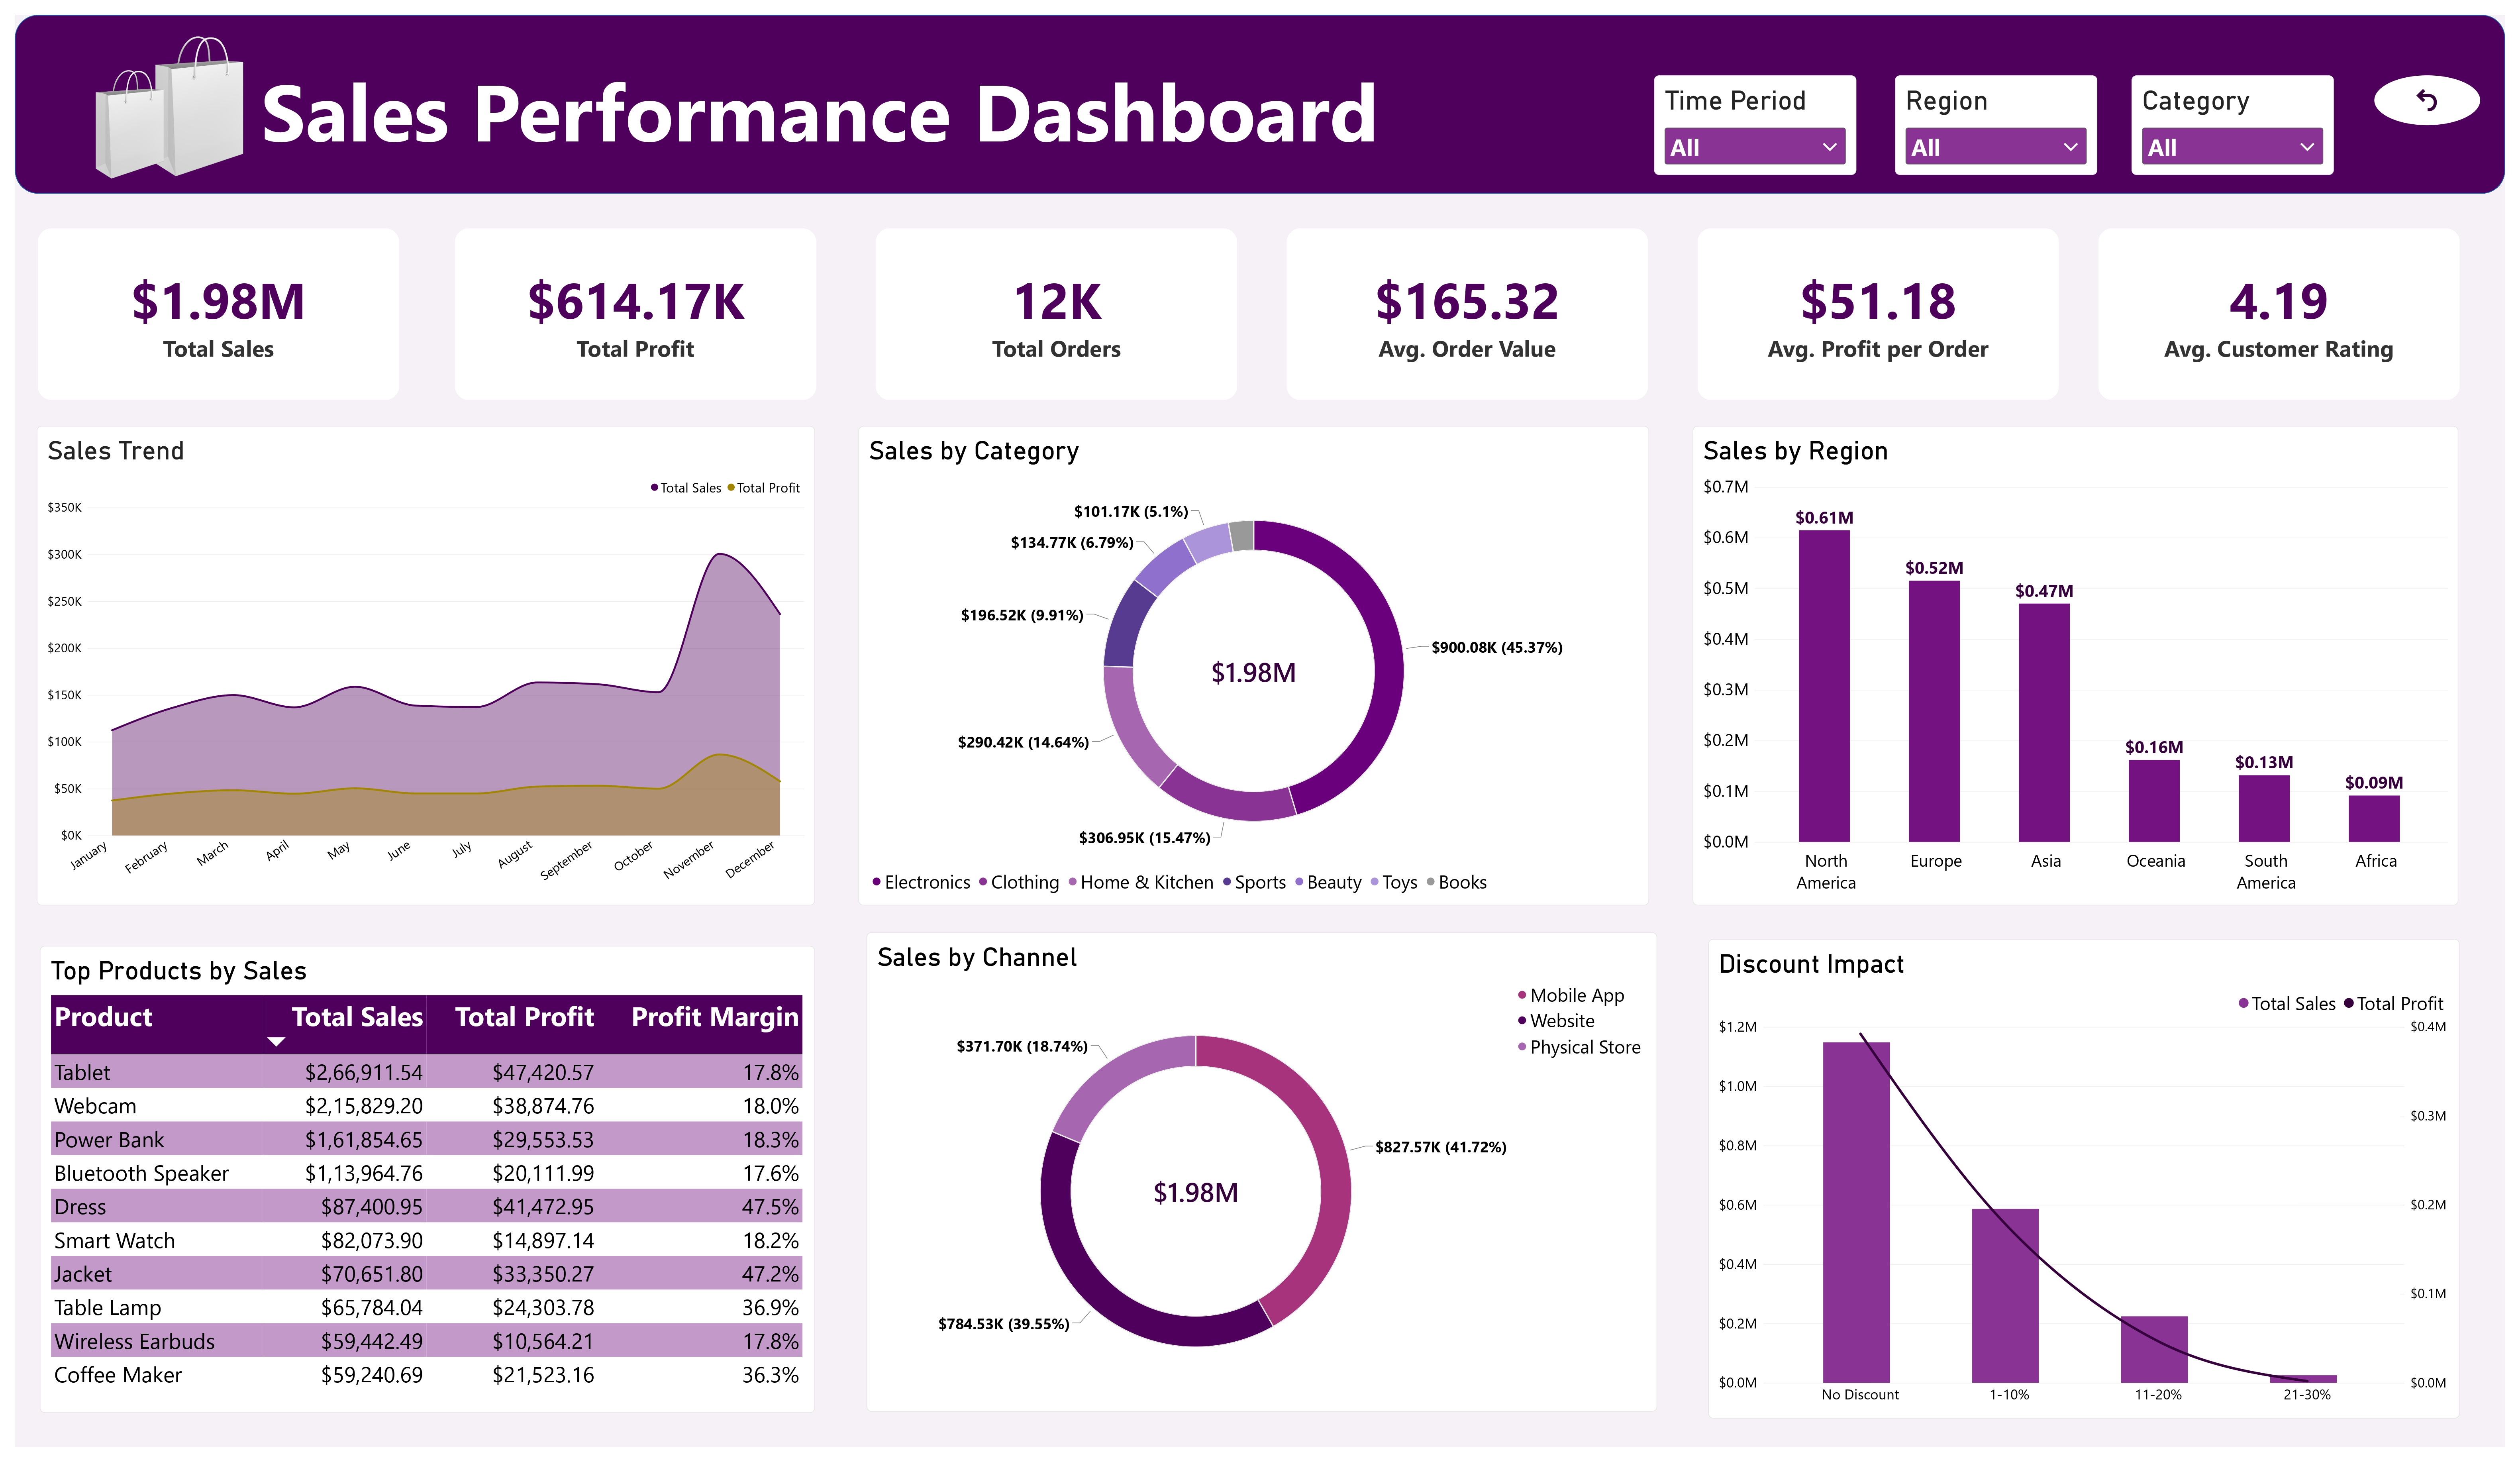

This screenshot's page, from the dashboard's own definition file:
{"tool":"powerbi","page":{"name":"Overview","canvas":[4000,2300],"ordinal":0},"visuals":[{"type":"shape","box":[0,0,666.3,2300.8],"z":0},{"type":"textbox","box":[186.7,53.3,419.4,215.6],"z":1000},{"type":"image","box":[0,35.3,203.8,227.3],"z":2000},{"type":"pageNavigator","box":[115.6,435.6,435.6,724.4],"z":3000},{"type":"textbox","box":[700,46.7,1236.7,143.3],"z":4000},{"type":"textbox","box":[700,163.3,420,70],"z":5000},{"type":"textbox","box":[116,372,132,40],"z":6000},{"type":"shape","box":[67.5,1150,530,222.5],"z":7000},{"type":"textbox","box":[115,1352.5,145,40],"z":8000},{"type":"listSlicer","title":"Time Period","fields":{"Values":["Date.Year"]},"box":[101.8,1413.6,435,160],"z":9000},{"type":"listSlicer","title":"Region","fields":{"Values":["Table1.region"]},"box":[102.2,1586.2,435,160],"z":10000},{"type":"listSlicer","title":"Category","fields":{"Values":["Table1.product_category"]},"box":[102.5,1758.8,435,160],"z":11000},{"type":"actionButton","box":[113.8,2068.8,411.2,101.2],"z":12000},{"type":"cardVisual","fields":{"Data":["Table1.Total Sales"]},"box":[700,280,520,240],"z":13000},{"type":"cardVisual","fields":{"Data":["Table1.Total Profit"]},"box":[1245,282,520,240],"z":14000},{"type":"cardVisual","title":"Average Order Value","fields":{"Data":["Table1.Average Sales"]},"box":[2335,286,520,240],"z":15000},{"type":"cardVisual","fields":{"Data":["Table1.Profit Margin"]},"box":[2880,288,520,240],"z":16000},{"type":"cardVisual","fields":{"Data":["Table1.Total Orders"]},"box":[1790,284,520,240],"z":17000},{"type":"cardVisual","fields":{"Data":["Table1.Avg. Customer Rating"]},"box":[3425,290,520,240],"z":18000},{"type":"areaChart","title":"Monthly Sales & Profit Trend","fields":{"Category":["Date.Month"],"Y":["Table1.Total Sales","Table1.Total Profit"]},"box":[700,545,1600,830],"z":19000},{"type":"donutChart","title":"Sales by Category","fields":{"Category":["Table1.product_category"],"Y":["Table1.Total Sales"]},"box":[2340,545,1600,830],"z":20000},{"type":"clusteredColumnChart","title":"Sales by Region","fields":{"Category":["Table1.region"],"Y":["Table1.Total Sales"]},"box":[701.6,1415,1089.6,831],"z":21000},{"type":"donutChart","title":"Sales by Channel","fields":{"Category":["Table1.order_channel"],"Y":["Table1.Total Sales"]},"box":[1810.8,1422.8,870.1,827],"z":22000},{"type":"tableEx","title":"Top Products by Sales","fields":{"Values":["Table1.product_name","Table1.Total Sales","Table1.Total Profit","Table1.Profit Margin"]},"box":[2700.6,1424.8,1246.4,819.2],"z":23000}]}

Visuals, with their boxes on the page's 4000x2300 design canvas (x1, y1, x2, y2). These are canvas units, not pixel positions in the 2520x1462 screenshot, which may show the page scaled, cropped or inside an application window:
shape: pyautogui.locateOnScreen(0, 0, 666, 2301)
textbox: pyautogui.locateOnScreen(187, 53, 606, 269)
image: pyautogui.locateOnScreen(0, 35, 204, 263)
pageNavigator: pyautogui.locateOnScreen(116, 436, 551, 1160)
textbox: pyautogui.locateOnScreen(700, 47, 1937, 190)
textbox: pyautogui.locateOnScreen(700, 163, 1120, 233)
textbox: pyautogui.locateOnScreen(116, 372, 248, 412)
shape: pyautogui.locateOnScreen(68, 1150, 598, 1372)
textbox: pyautogui.locateOnScreen(115, 1352, 260, 1392)
"Time Period" listSlicer: pyautogui.locateOnScreen(102, 1414, 537, 1574)
"Region" listSlicer: pyautogui.locateOnScreen(102, 1586, 537, 1746)
"Category" listSlicer: pyautogui.locateOnScreen(102, 1759, 538, 1919)
actionButton: pyautogui.locateOnScreen(114, 2069, 525, 2170)
cardVisual - Table1.Total Sales: pyautogui.locateOnScreen(700, 280, 1220, 520)
cardVisual - Table1.Total Profit: pyautogui.locateOnScreen(1245, 282, 1765, 522)
"Average Order Value" cardVisual: pyautogui.locateOnScreen(2335, 286, 2855, 526)
cardVisual - Table1.Profit Margin: pyautogui.locateOnScreen(2880, 288, 3400, 528)
cardVisual - Table1.Total Orders: pyautogui.locateOnScreen(1790, 284, 2310, 524)
cardVisual - Table1.Avg. Customer Rating: pyautogui.locateOnScreen(3425, 290, 3945, 530)
"Monthly Sales & Profit Trend" areaChart: pyautogui.locateOnScreen(700, 545, 2300, 1375)
"Sales by Category" donutChart: pyautogui.locateOnScreen(2340, 545, 3940, 1375)
"Sales by Region" clusteredColumnChart: pyautogui.locateOnScreen(702, 1415, 1791, 2246)
"Sales by Channel" donutChart: pyautogui.locateOnScreen(1811, 1423, 2681, 2250)
"Top Products by Sales" tableEx: pyautogui.locateOnScreen(2701, 1425, 3947, 2244)
